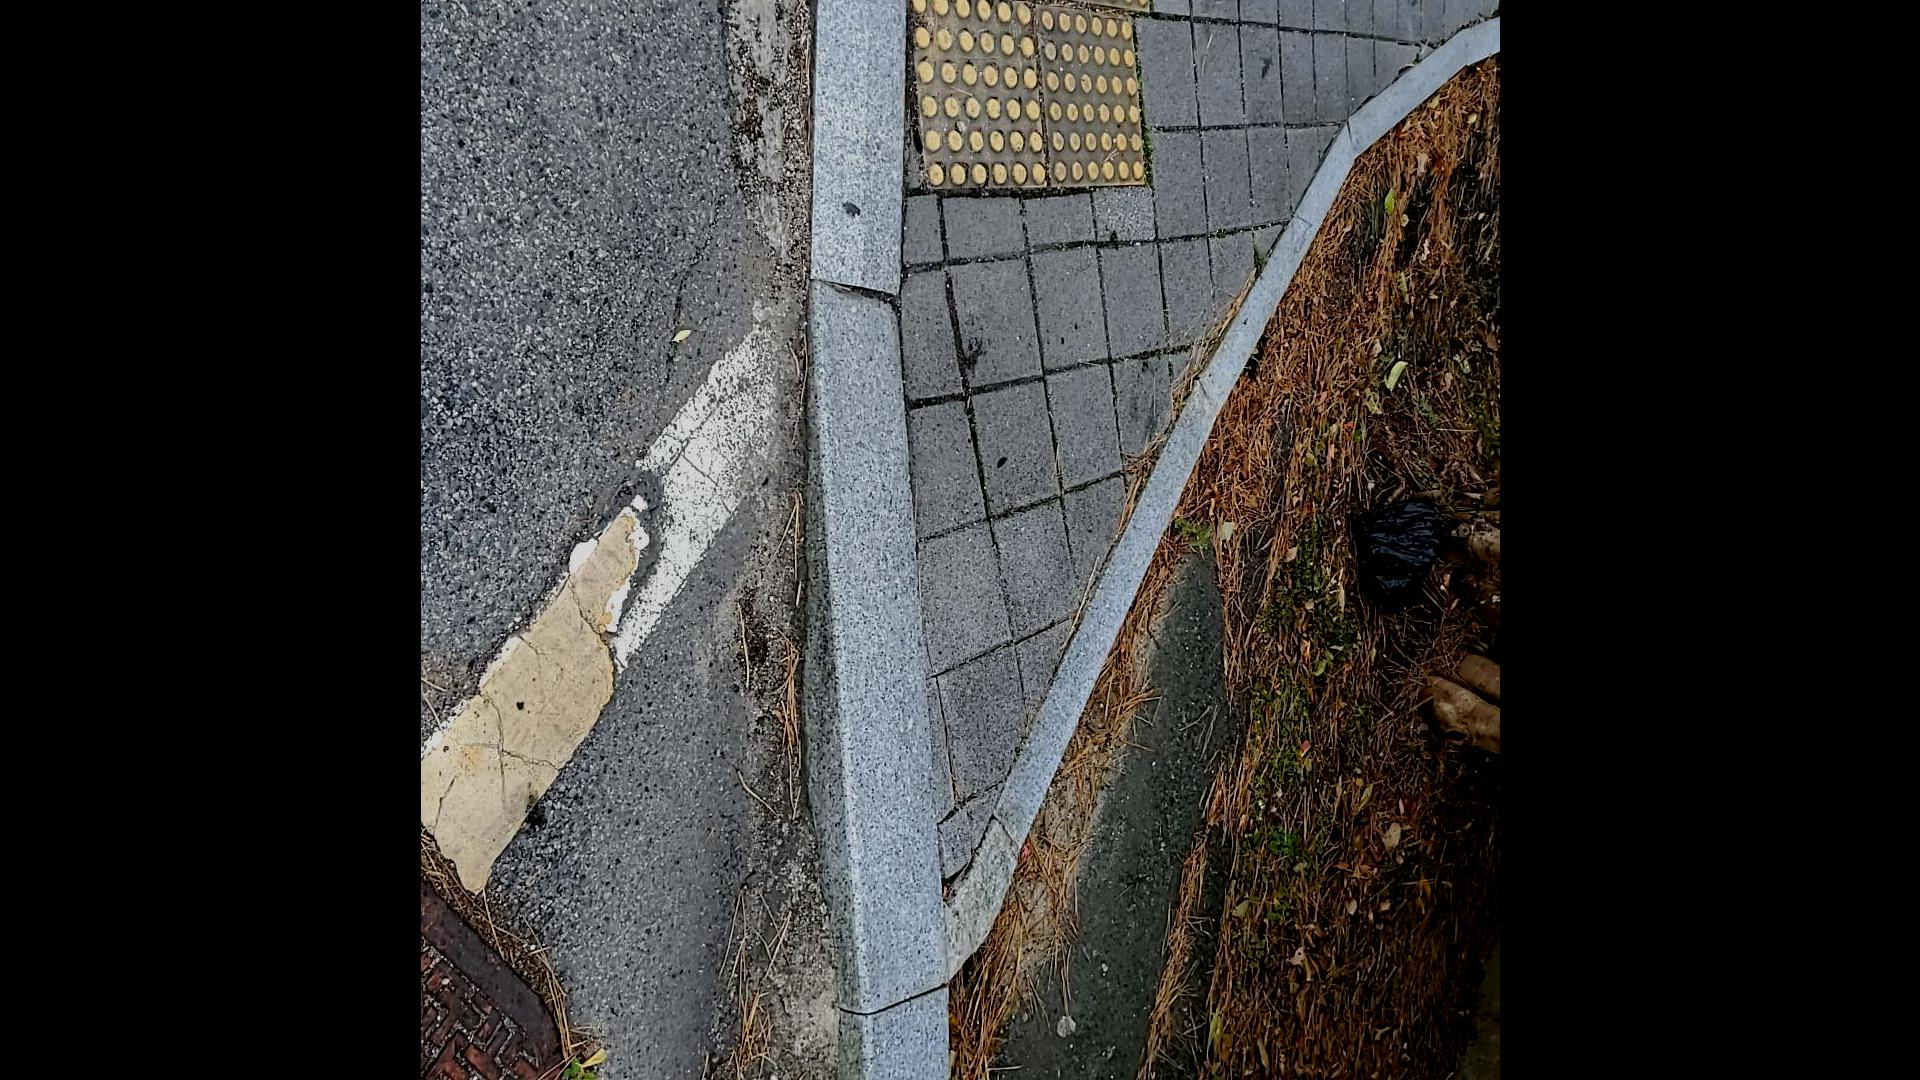black_bag: (1342, 496, 1440, 616)
